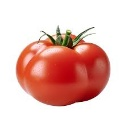tomato: (16, 34, 112, 106)
